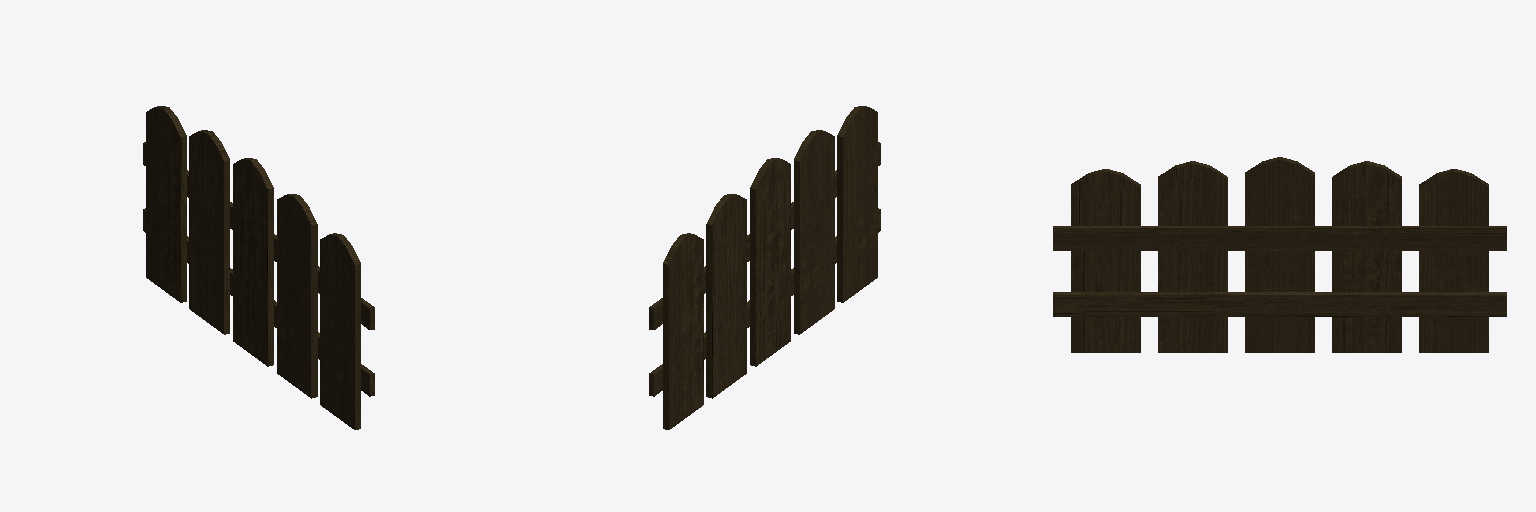
The picture shows the model from 3 angles: view 1: azimuth 30°, elevation 25°; view 2: azimuth 150°, elevation 25°; view 3: azimuth 270°, elevation 25°; orthographic projection.
Parts seen in each view (by area): view 1: poarta.004; view 2: poarta.004; view 3: poarta.004.
Boxes of the visible parts, x1,y1,x2,y2 form: poarta.004: [143, 106, 374, 429]; poarta.004: [649, 106, 880, 429]; poarta.004: [1053, 157, 1506, 352].
Size of the model in its own units: 0.9172 by 15.29 by 32.46.
1 materials, 1 textured.